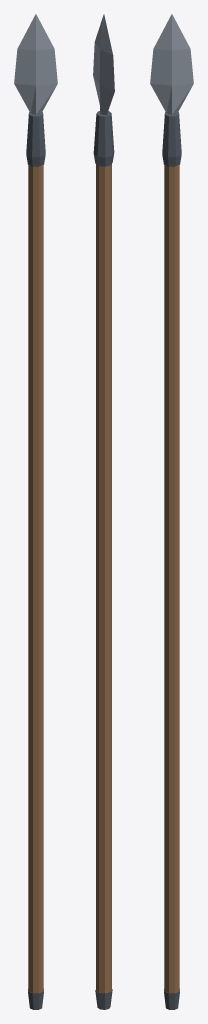
File: spear.dae
The picture shows the model from 3 angles, left to right: view 1: azimuth 90°, elevation 25°; view 2: azimuth 210°, elevation 25°; view 3: azimuth 270°, elevation 25°; orthographic projection.
Parts seen in each view (by area): view 1: spear; view 2: spear; view 3: spear.
Part boxes in pixels (left/top/right/bottom): spear: left=14, top=14, right=57, bottom=1009; spear: left=93, top=14, right=114, bottom=1009; spear: left=150, top=14, right=193, bottom=1009.
Size of the model in its own units: 0.0352 by 0.08 by 2.
